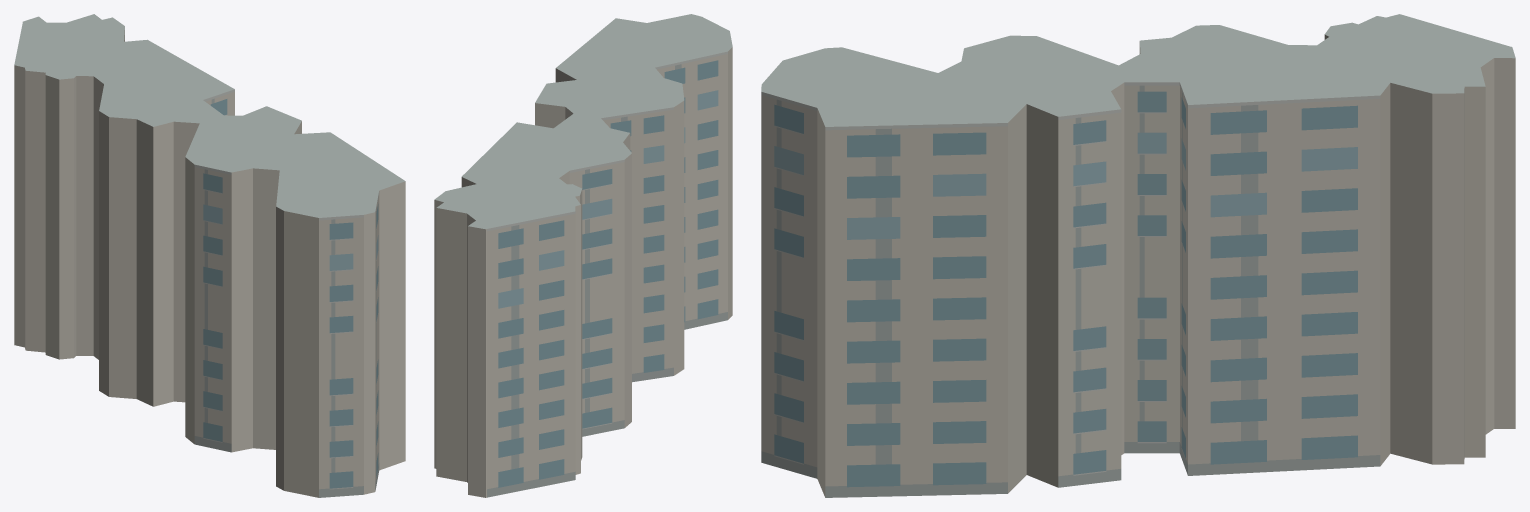
File: survey-upis-32949963.glb
The picture shows the model from 3 angles, left to right: view 1: azimuth 30°, elevation 25°; view 2: azimuth 150°, elevation 25°; view 3: azimuth 270°, elevation 25°; orthographic projection. The views are drawn at different scales.
Parts seen in each view (by area): view 1: survey-upis-32949963.tmp; view 2: survey-upis-32949963.tmp; view 3: survey-upis-32949963.tmp.
Boxes of the visible parts, x1=… form: survey-upis-32949963.tmp: x1=14, y1=14, x2=405, y2=497; survey-upis-32949963.tmp: x1=434, y1=14, x2=732, y2=497; survey-upis-32949963.tmp: x1=761, y1=14, x2=1515, y2=497.
Size of the model in its own units: 17.94 by 27.45 by 50.6.
